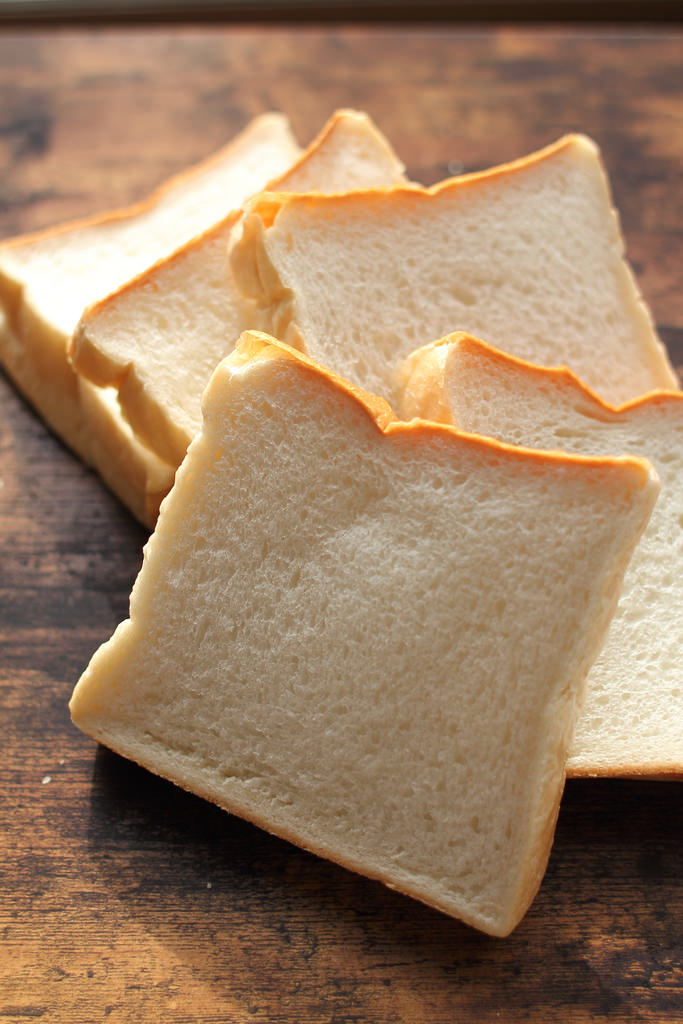slice of bread: (94, 344, 660, 930)
